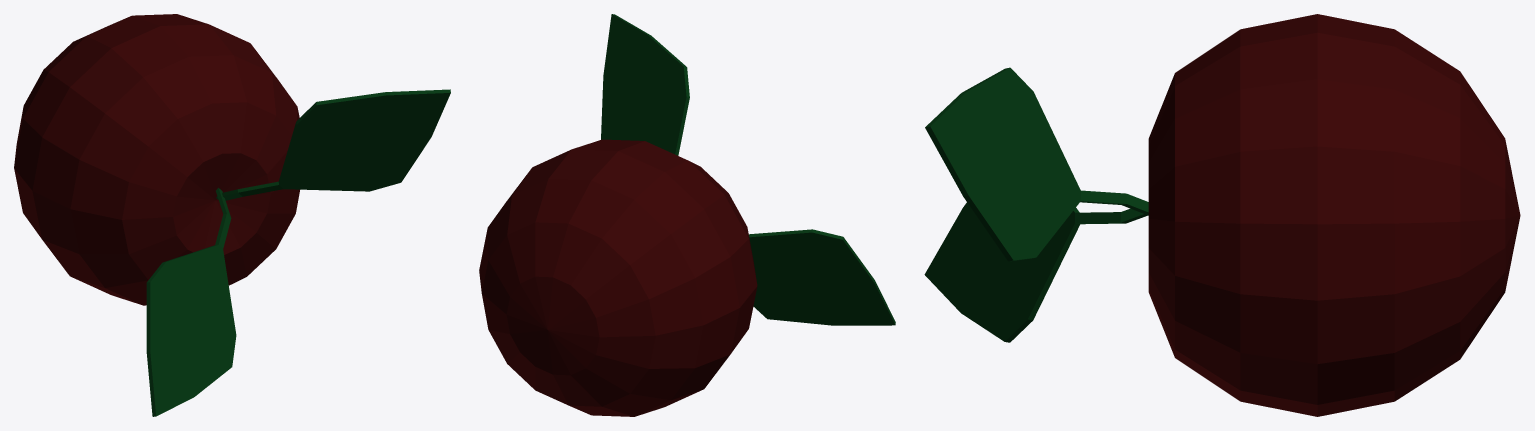
The model's file is cheryl.obj.
3 renders of one model, left to right at view 1: azimuth 30°, elevation 25°; view 2: azimuth 150°, elevation 25°; view 3: azimuth 270°, elevation 25°, orthographic. The views are drawn at different scales.
Visible parts, largest first — view 1: Sphere.001, Plane.000_Plane.000, Plane.001; view 2: Sphere.001, Plane.001, Plane.000_Plane.000; view 3: Sphere.001, Plane.000_Plane.000, Plane.001.
Part boxes in pixels (<box>): Sphere.001: <box>14,14,299,305</box>; Plane.000_Plane.000: <box>216,89,450,200</box>; Plane.001: <box>146,188,236,416</box>; Sphere.001: <box>479,139,757,416</box>; Plane.001: <box>749,229,895,325</box>; Plane.000_Plane.000: <box>601,14,689,155</box>; Sphere.001: <box>1148,14,1520,416</box>; Plane.000_Plane.000: <box>925,67,1148,261</box>; Plane.001: <box>924,202,1147,342</box>.
Bounding box in the file's own units: 2.33 × 2.03 × 2.96.
